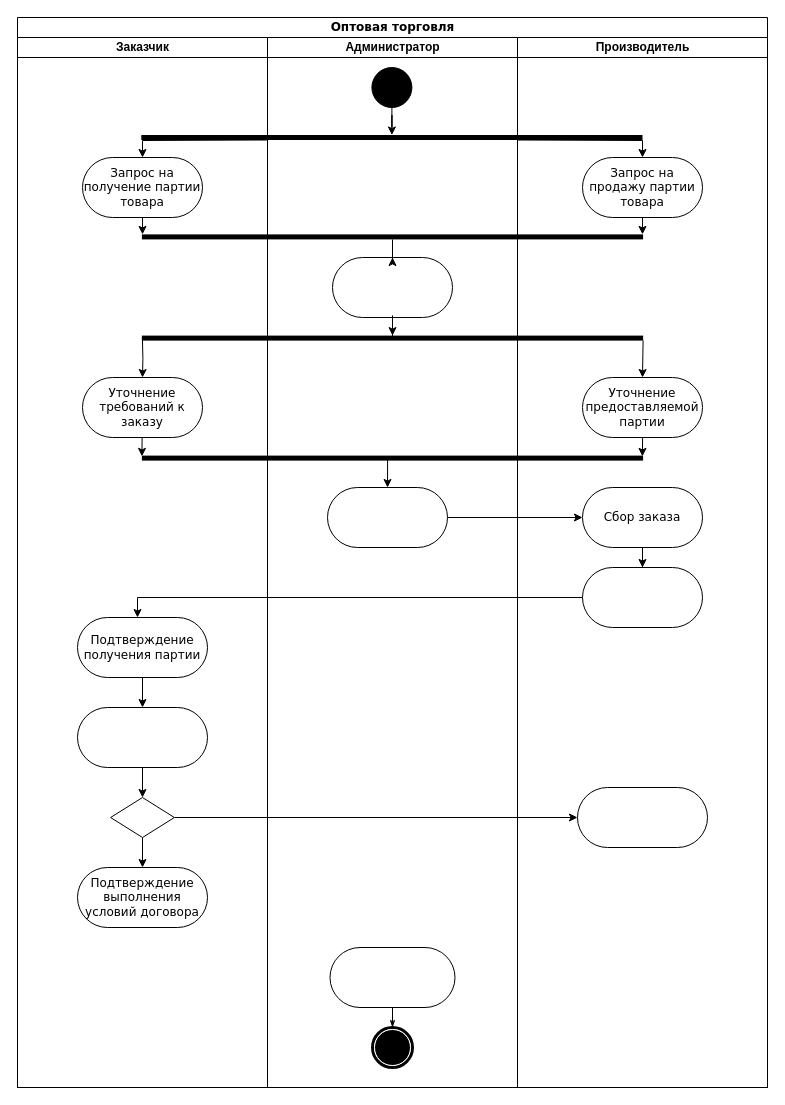
Image size: 785x1105. Some labels were removed from this diagram. Each missing label, with the centre of its shape:
"Дополнение заказа" belongs at pixel 642 817.
"Доставка партии товара заказчику" belongs at pixel 642 597.
"Заключение договора на поставку партии" belongs at pixel 387 517.
"Проверка объемов и качества товара" belongs at pixel 142 737.
"Удовлетворение требований заказчика и производителя" belongs at pixel 392 977.
"Уточнение условий договора" belongs at pixel 392 287.
